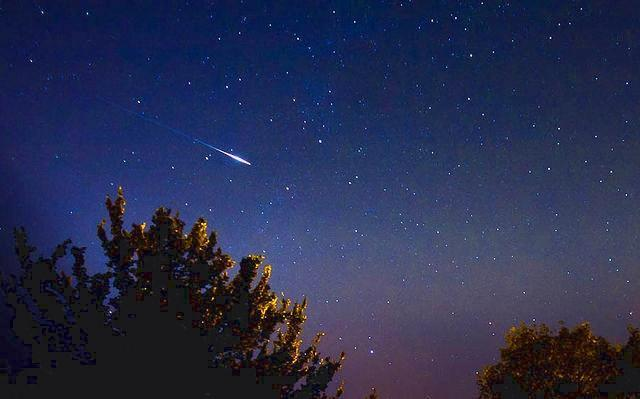meteorite: (109, 102, 266, 165)
